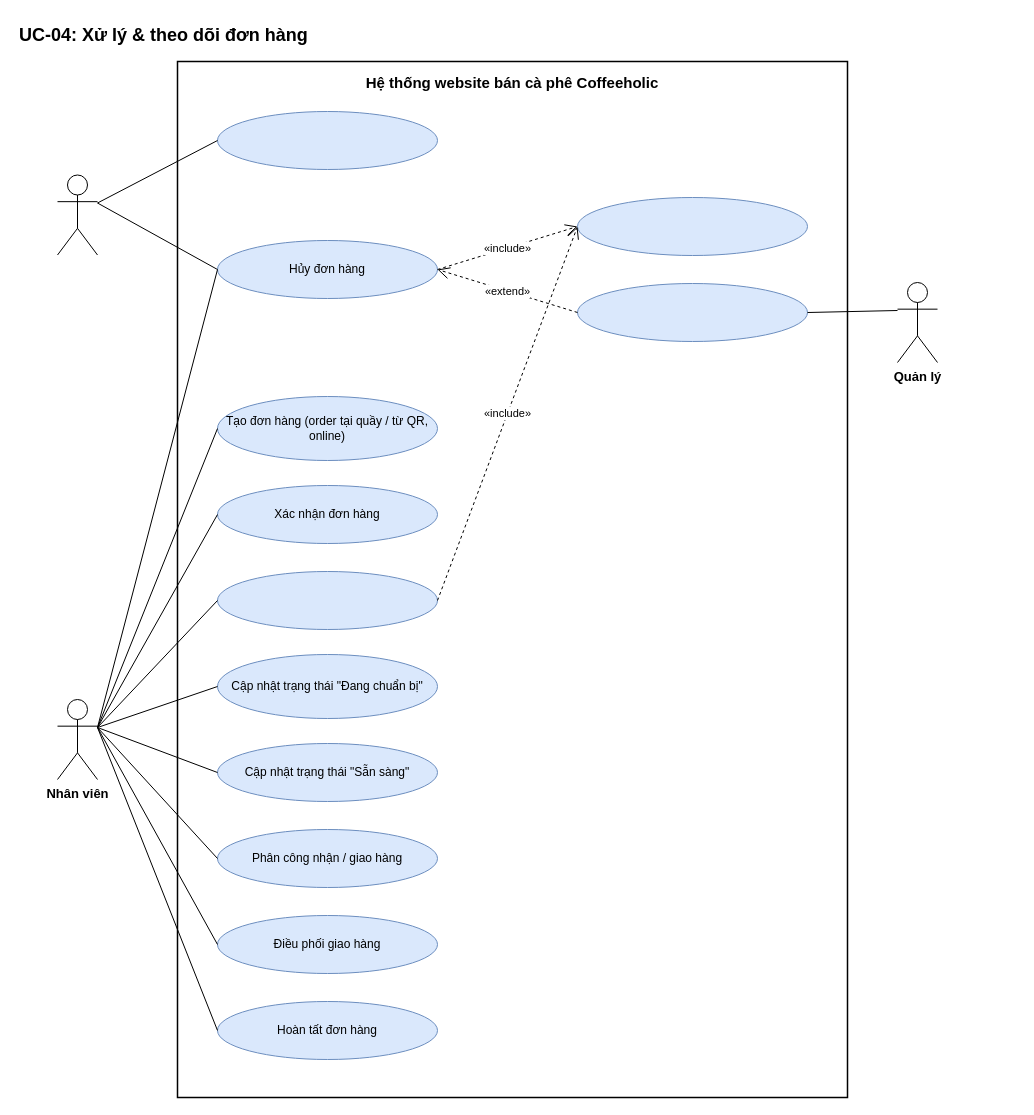
The diagram is 1034 pixels wide and 1115 high, and some of its shapes have lost their labels. The shapes that lost their labels are listed below. From the top down, each one's centre as x and y in pixels, then its label:
At (327,140): "Theo dõi trạng thái đơn hàng".
At (77,214): "Khách hàng".
At (692,226): "Ghi nhận lý do".
At (692,312): "Hoàn tiền".
At (327,600): "Từ chối đơn hàng".
